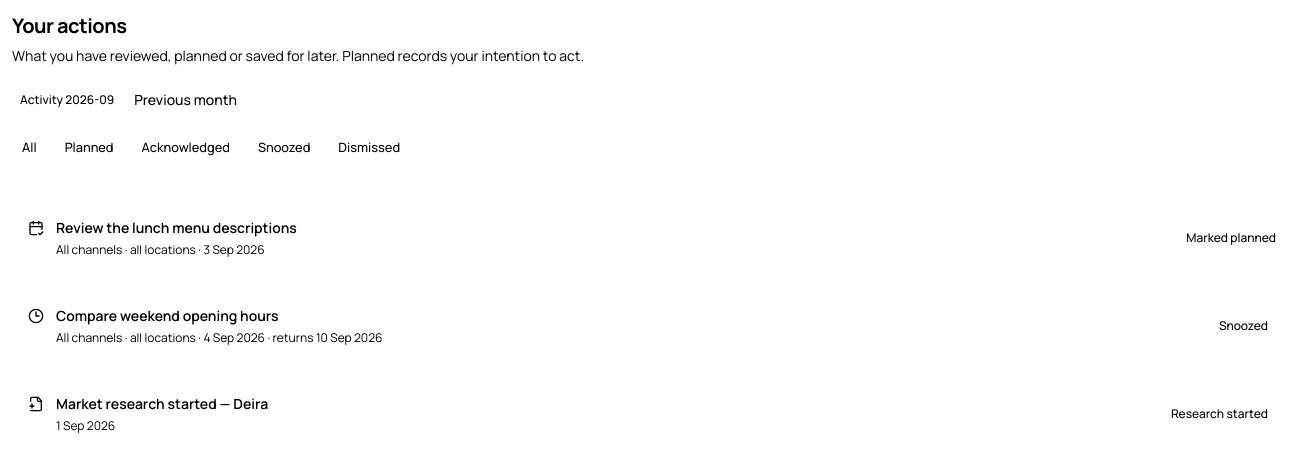
it: YourActionsTab › filters the list by decision while All keeps research rows
Expected: the text "Market research started — Deira" is shown, 56,394 -> 268,414
Click the button "Snoozed" at [284, 148], box 248,134 -> 320,162
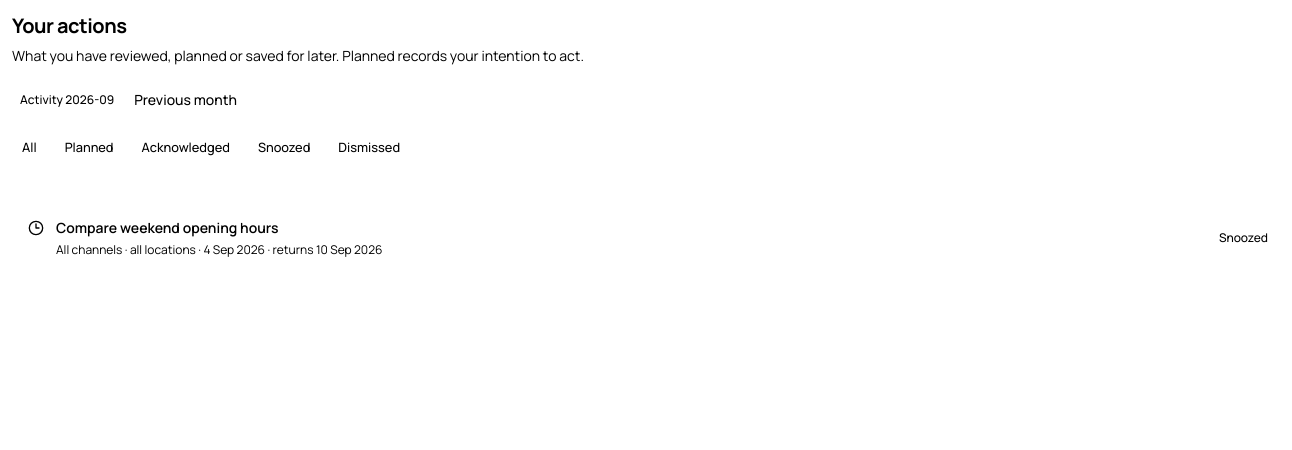
Expected: the text "Compare weekend opening hours" is shown, 56,218 -> 278,237
Expected: the text "Review the lunch menu descriptions" is gone
Expected: the text "Market research started — Deira" is gone
Click the button "All" at [29, 148], box 12,134 -> 47,162
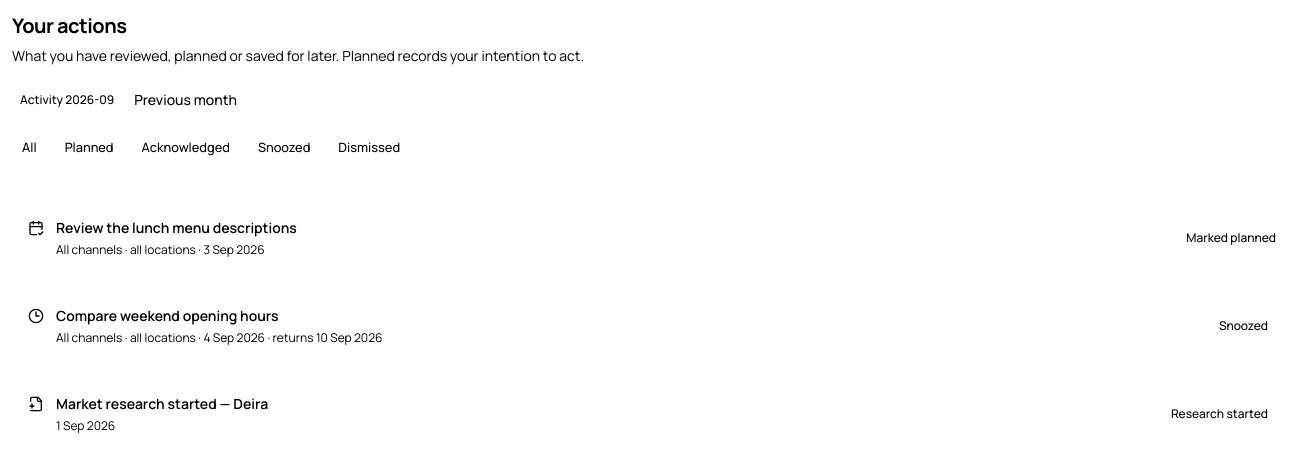
Expected: the text "Market research started — Deira" is shown, 56,394 -> 268,414
